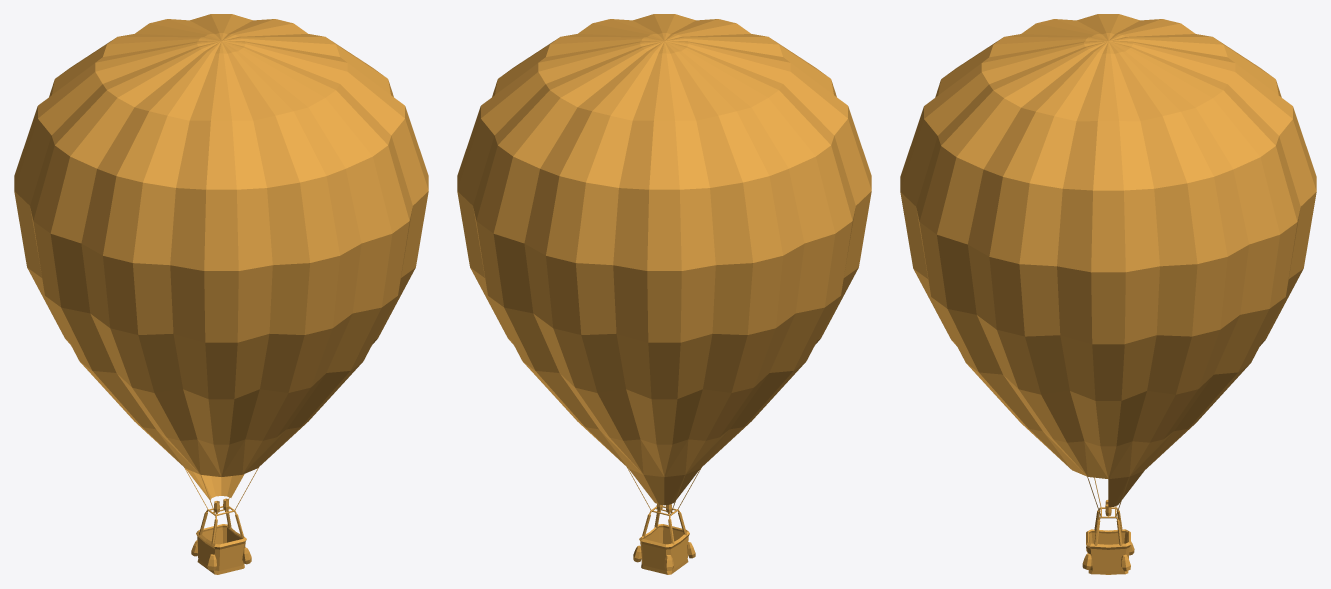
The model's file is balloon-stripes.glb.
3 renders of one model, left to right at view 1: azimuth 30°, elevation 25°; view 2: azimuth 150°, elevation 25°; view 3: azimuth 270°, elevation 25°, orthographic.
Visible parts, largest first — view 1: balloon-stripes; view 2: balloon-stripes; view 3: balloon-stripes.
Boxes of the visible parts, box(x1,y1,x2,y2) form: balloon-stripes: box(14, 14, 428, 574); balloon-stripes: box(457, 14, 871, 574); balloon-stripes: box(900, 14, 1316, 574).
Size of the model in its own units: 16.03 by 22.43 by 16.03.
